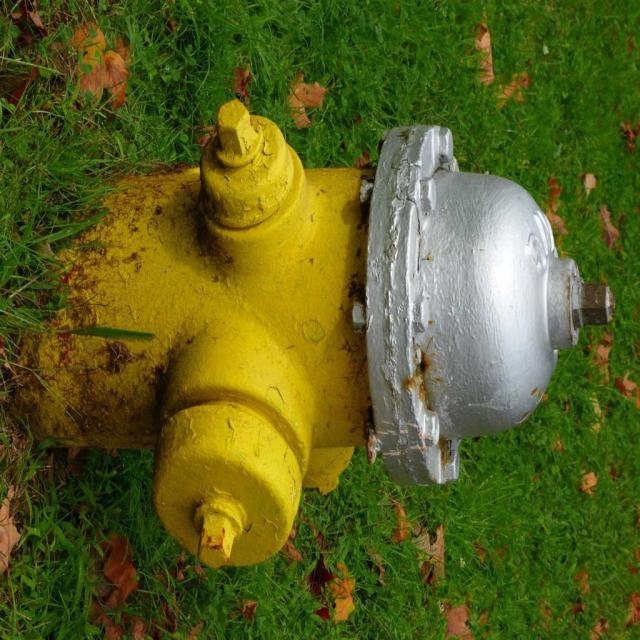fire_hydrant: (7, 98, 617, 569)
